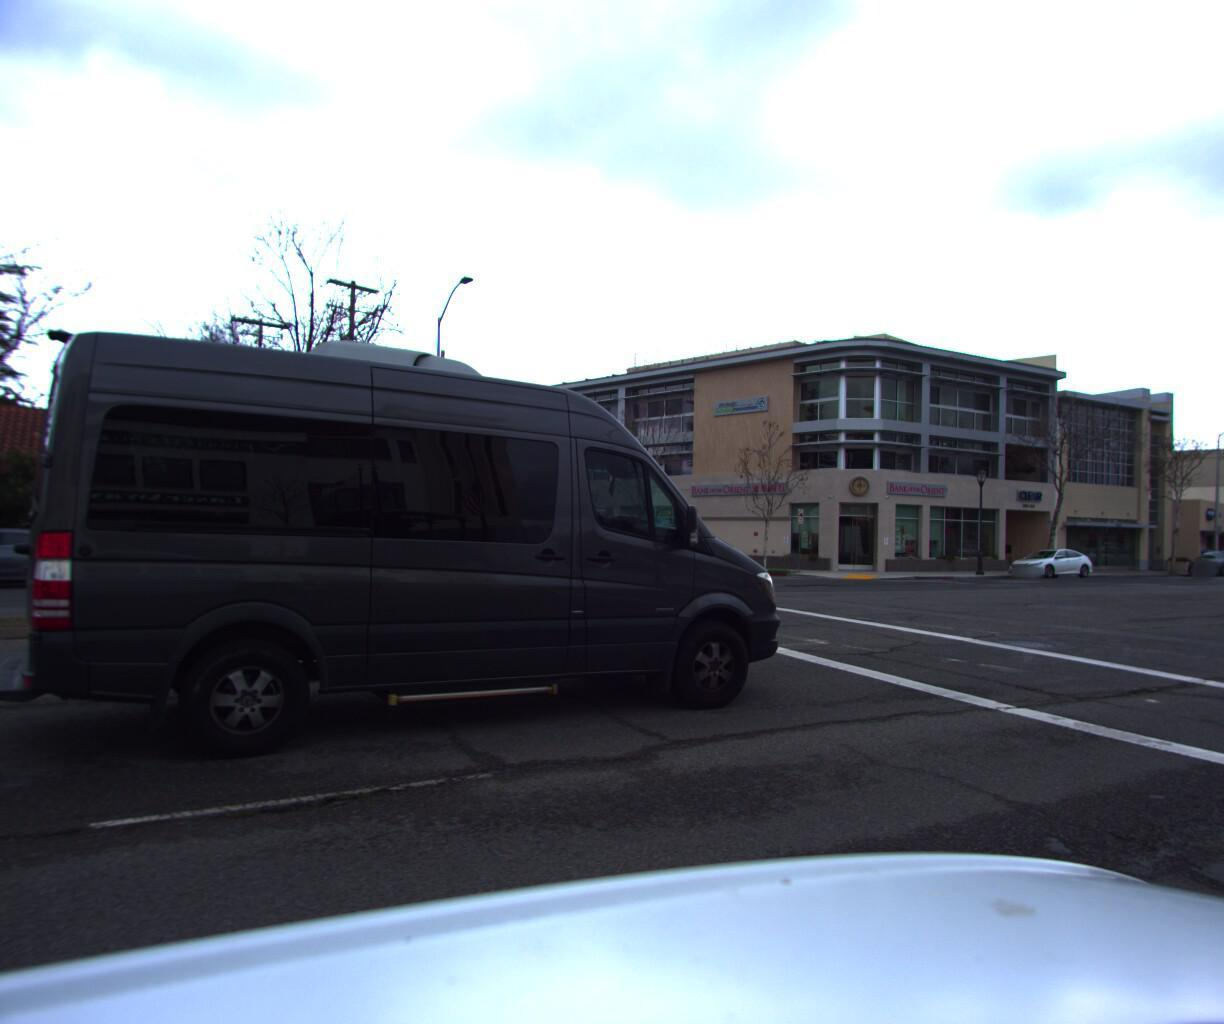car: (9, 262, 816, 790), (0, 519, 99, 598), (995, 540, 1098, 575), (1174, 543, 1224, 573)
